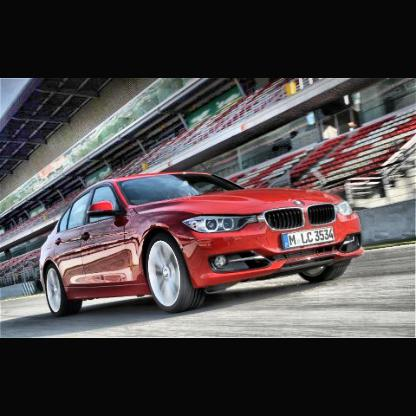BMW 3 Series Sedan 2012: (39, 170, 366, 323)
